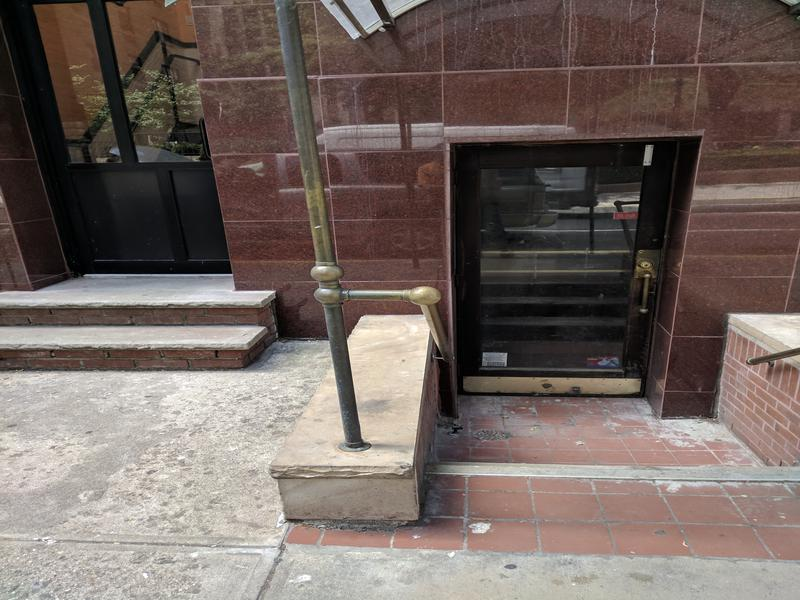door: (454, 144, 689, 407)
